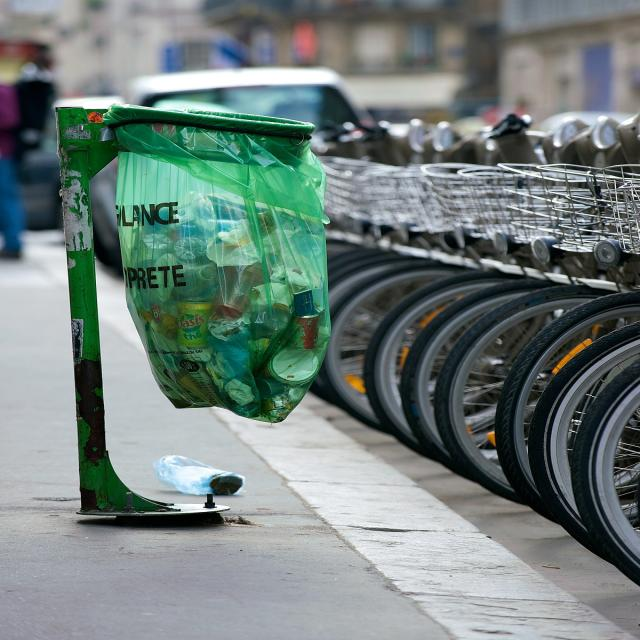garbage: (94, 92, 342, 424)
